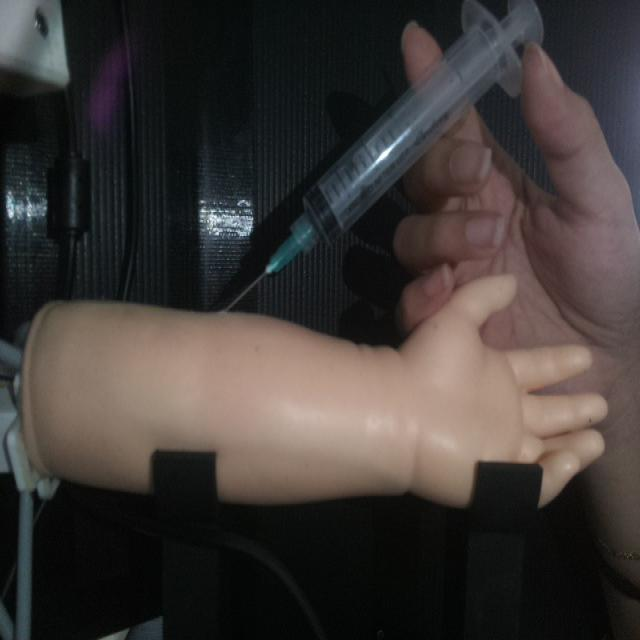Outside: (218, 0, 544, 317)
